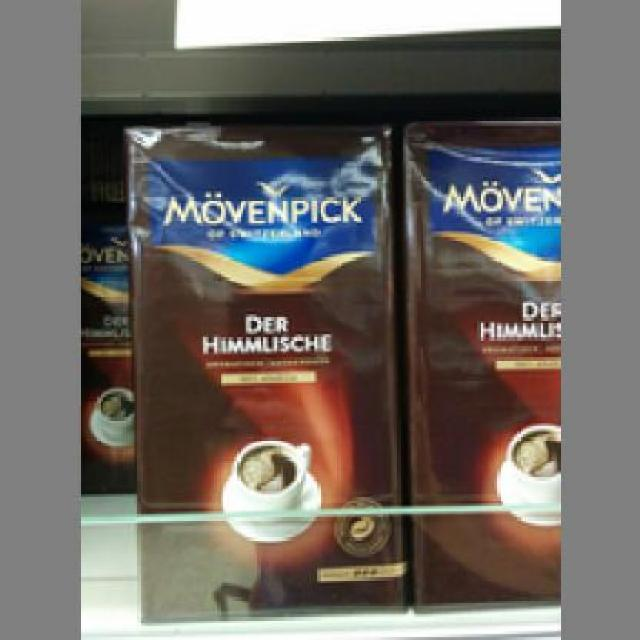Coffee: (120, 117, 409, 617), (400, 114, 557, 617)
